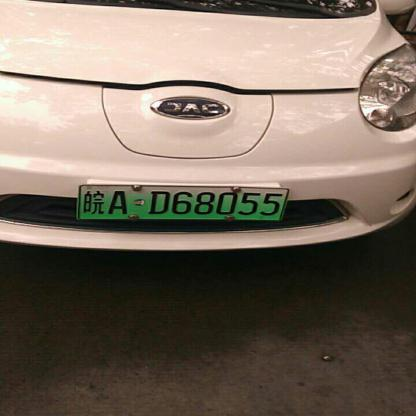lp: (79, 186, 288, 220)
